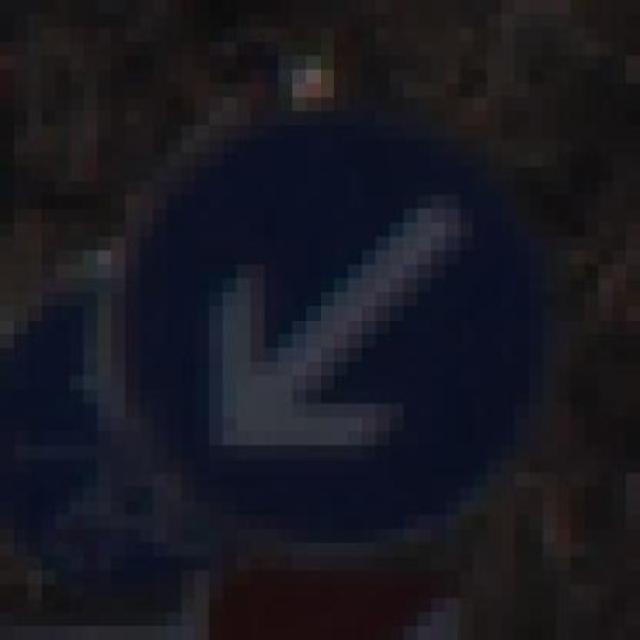Keep-Left: (69, 83, 557, 529)
